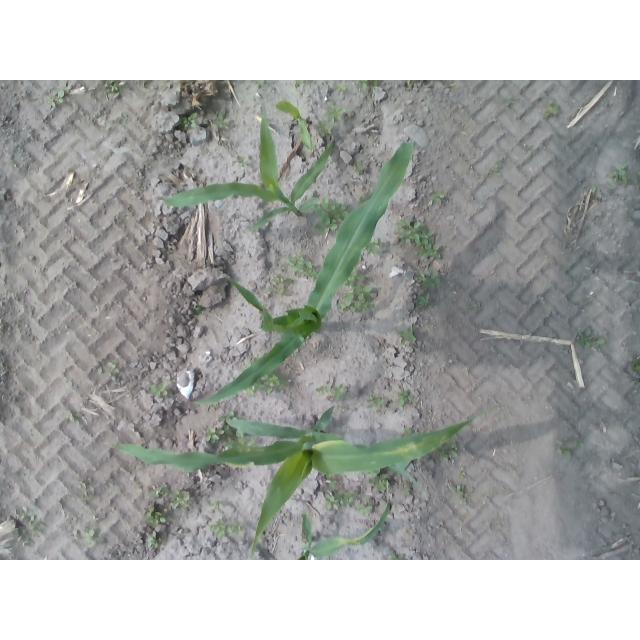Maize: (111, 404, 508, 556), (192, 142, 414, 407), (162, 100, 337, 232), (298, 494, 391, 560), (275, 101, 313, 150)
Weeds: (394, 220, 441, 261), (14, 507, 49, 547), (340, 283, 377, 315), (326, 476, 358, 512), (316, 103, 347, 137), (314, 197, 342, 232), (203, 519, 245, 542), (287, 254, 319, 279), (73, 527, 109, 549), (578, 327, 606, 349), (316, 384, 347, 403), (144, 502, 168, 525), (416, 267, 440, 290), (449, 484, 472, 508), (170, 487, 193, 510), (268, 277, 295, 296), (217, 409, 239, 431), (226, 432, 255, 448), (265, 374, 287, 395), (611, 162, 633, 183), (368, 473, 392, 492), (76, 481, 96, 502), (46, 88, 66, 109), (441, 443, 460, 465), (365, 392, 387, 411), (542, 99, 561, 120), (180, 112, 200, 131), (397, 327, 418, 345), (149, 381, 171, 398), (146, 533, 162, 556), (555, 440, 574, 459), (151, 481, 170, 499), (213, 114, 233, 131), (205, 426, 226, 442), (396, 391, 413, 410), (103, 81, 125, 95), (358, 80, 380, 93), (359, 500, 374, 517), (417, 292, 432, 308), (294, 80, 320, 89), (367, 238, 381, 254), (428, 193, 445, 205), (233, 156, 250, 168), (107, 361, 121, 375), (333, 82, 349, 94), (69, 412, 86, 423), (210, 499, 222, 513), (401, 481, 412, 496), (633, 356, 640, 377), (354, 160, 366, 172), (574, 441, 587, 452), (492, 162, 505, 173), (505, 97, 516, 109), (247, 386, 257, 398), (391, 552, 404, 561), (606, 184, 618, 193), (93, 515, 102, 526), (255, 81, 269, 88), (194, 306, 203, 315), (403, 428, 413, 436), (458, 470, 466, 480), (407, 80, 419, 86), (338, 405, 350, 411), (525, 144, 536, 150), (593, 186, 599, 195), (635, 182, 640, 191), (471, 301, 478, 307)
